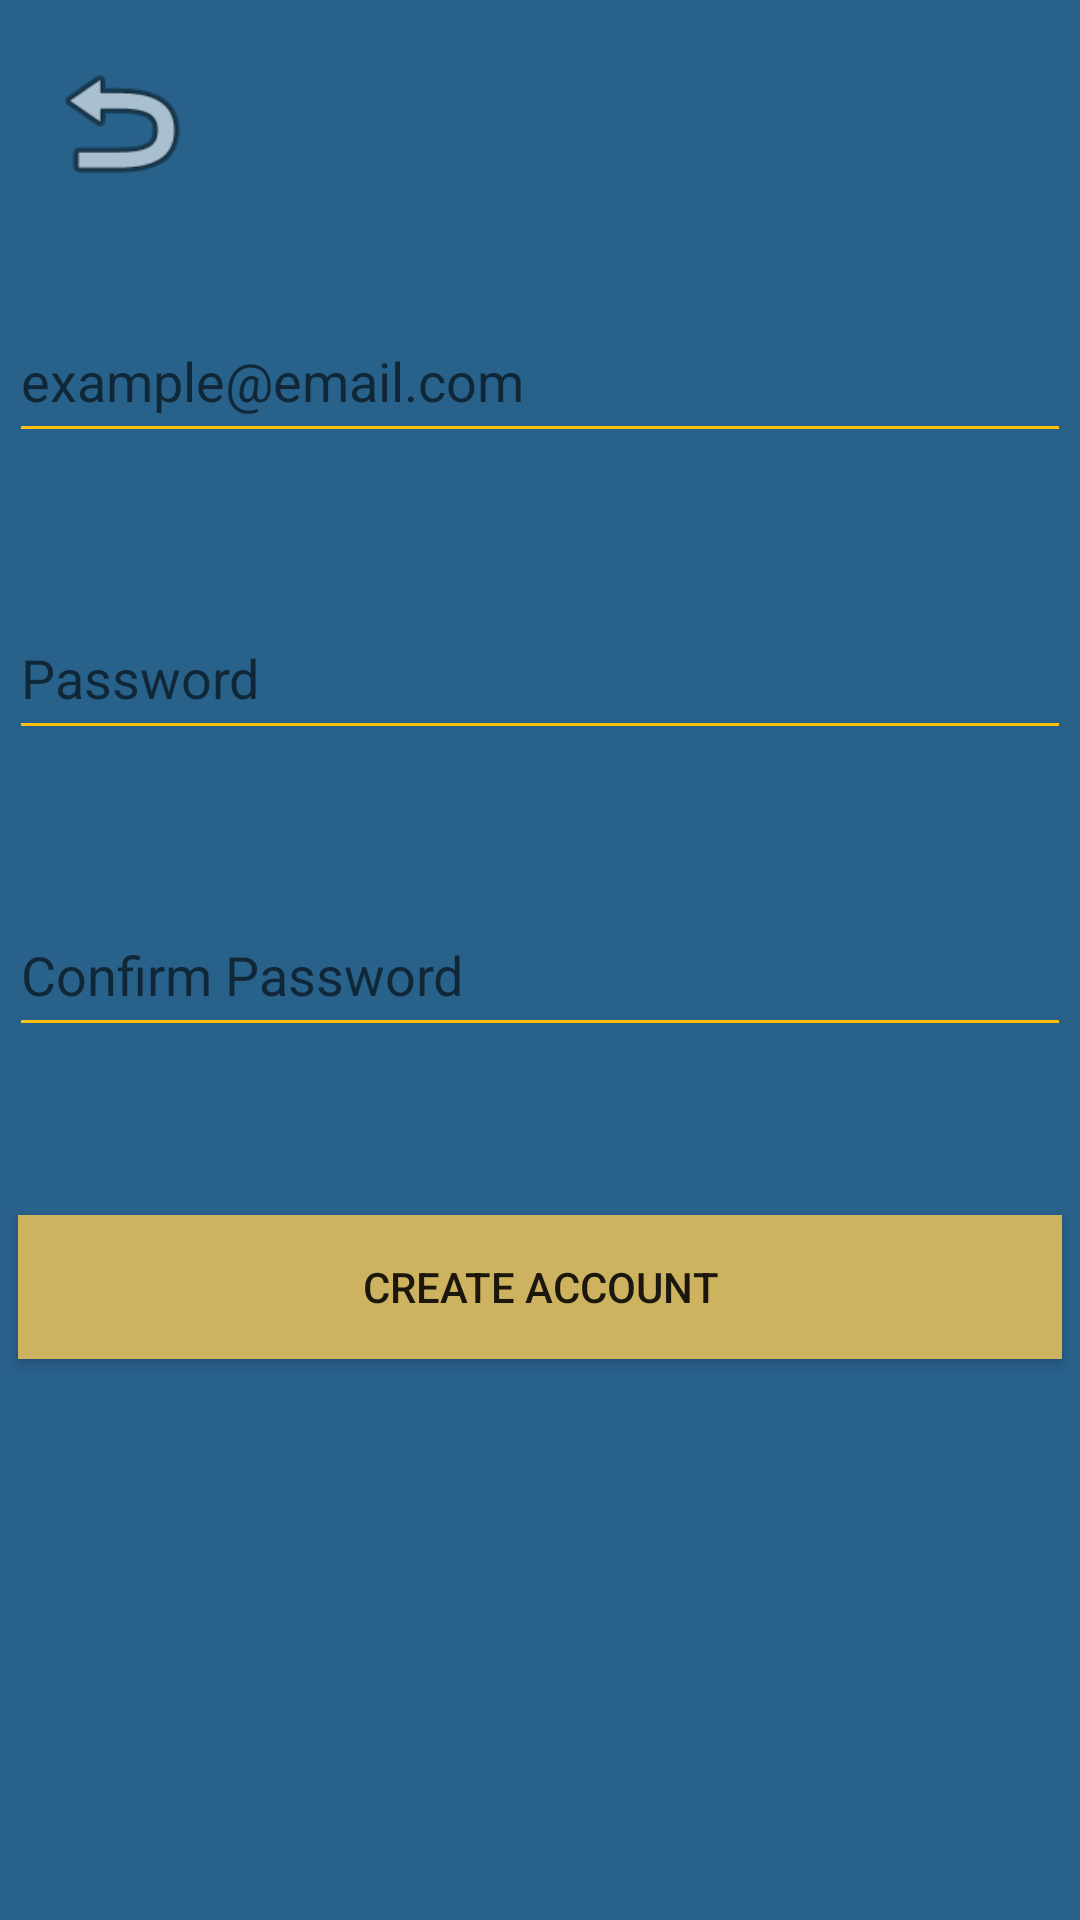

Named icons in this screenshot (1080w x 1920h) and their centers, (x,y):
revert: (123,124)
